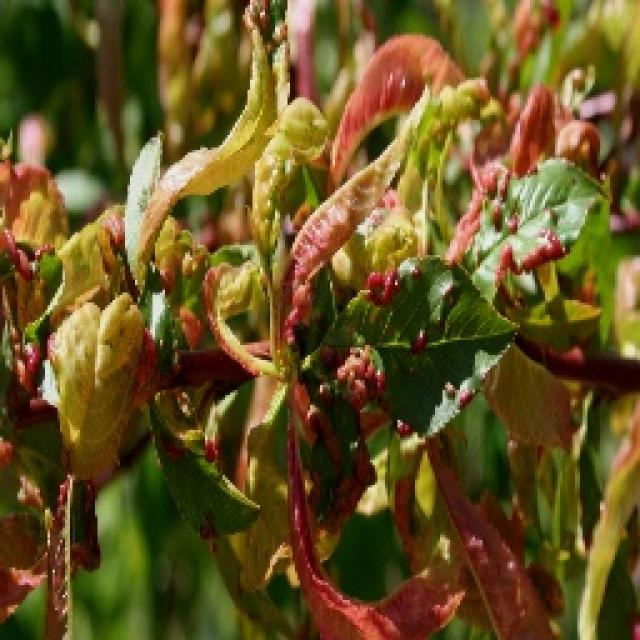peach_leaf_curl: (153, 0, 636, 441), (323, 30, 465, 192)
